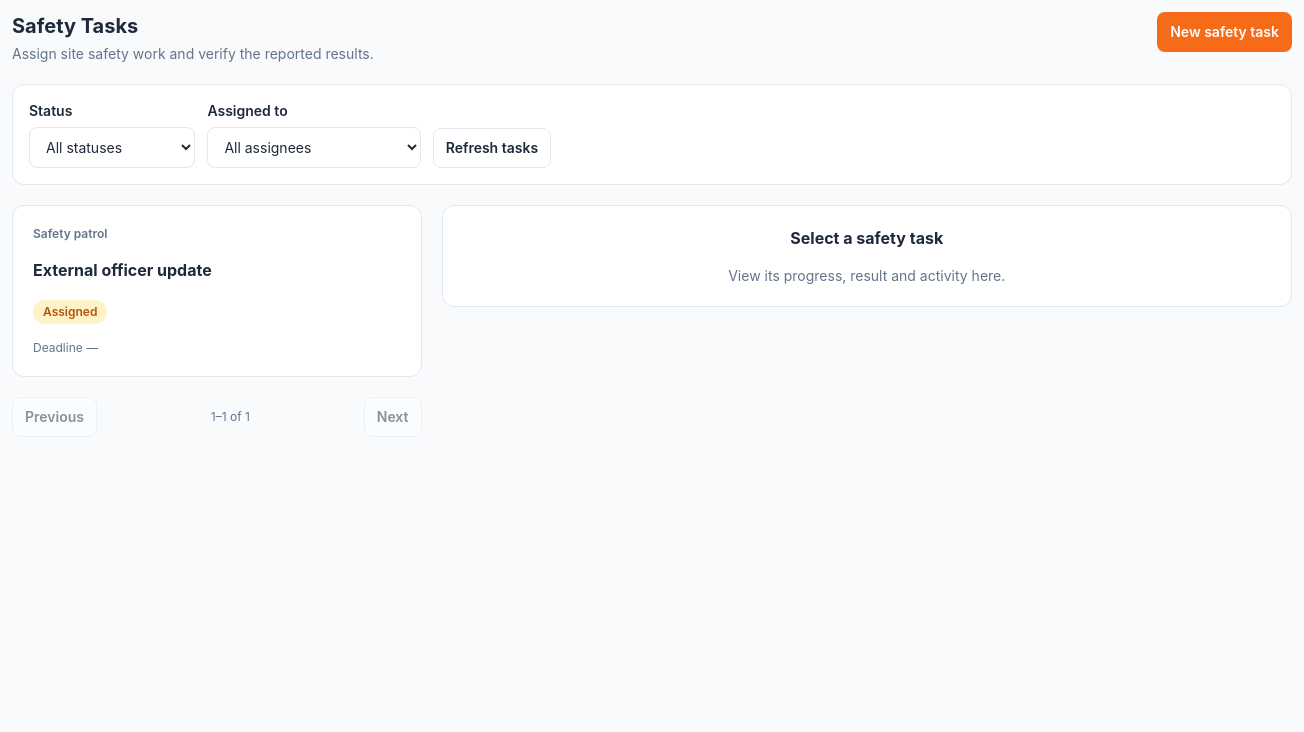
Refresh tasks loads the selected task changed by another officer within the cache window
This screenshot has width=1304, height=732.
Click the button "Safety patrol External officer update Assigned Deadline —": (70, 234) x1=12 y1=205 x2=422 y2=377
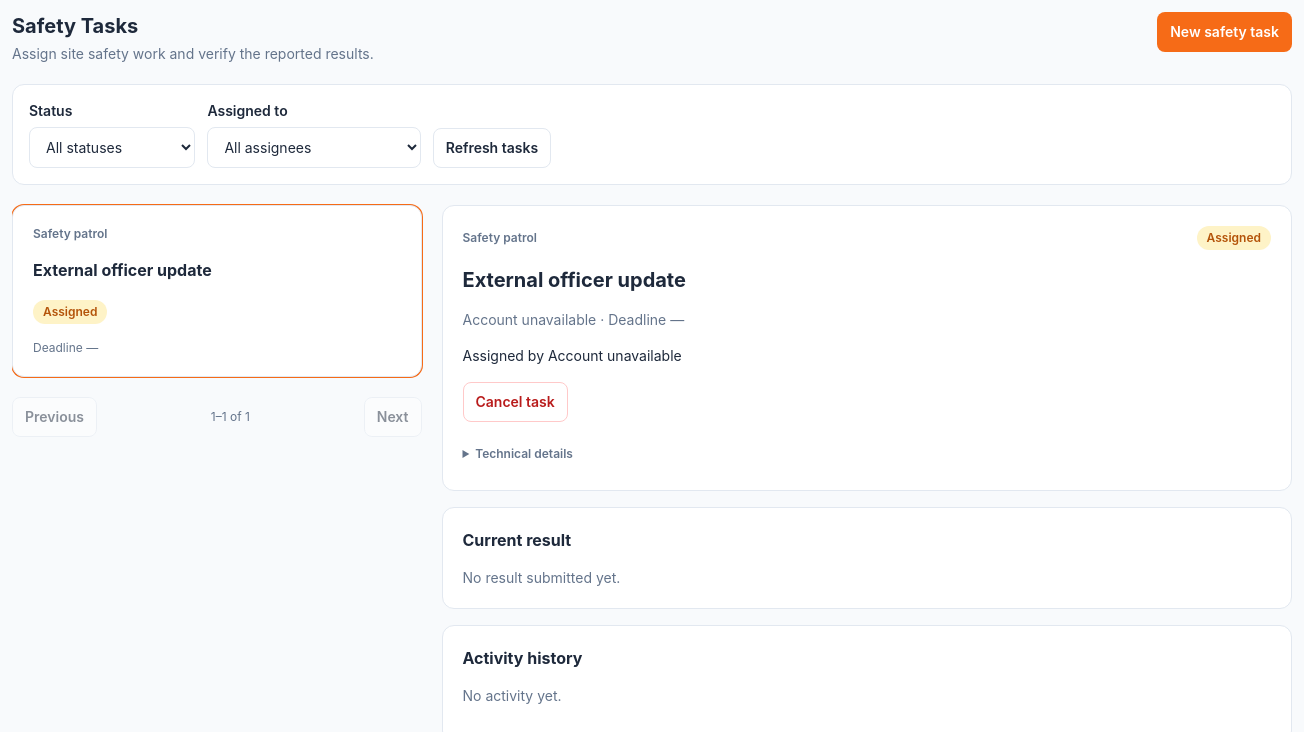
Click the button "Refresh tasks": (492, 148) x1=433 y1=128 x2=551 y2=168
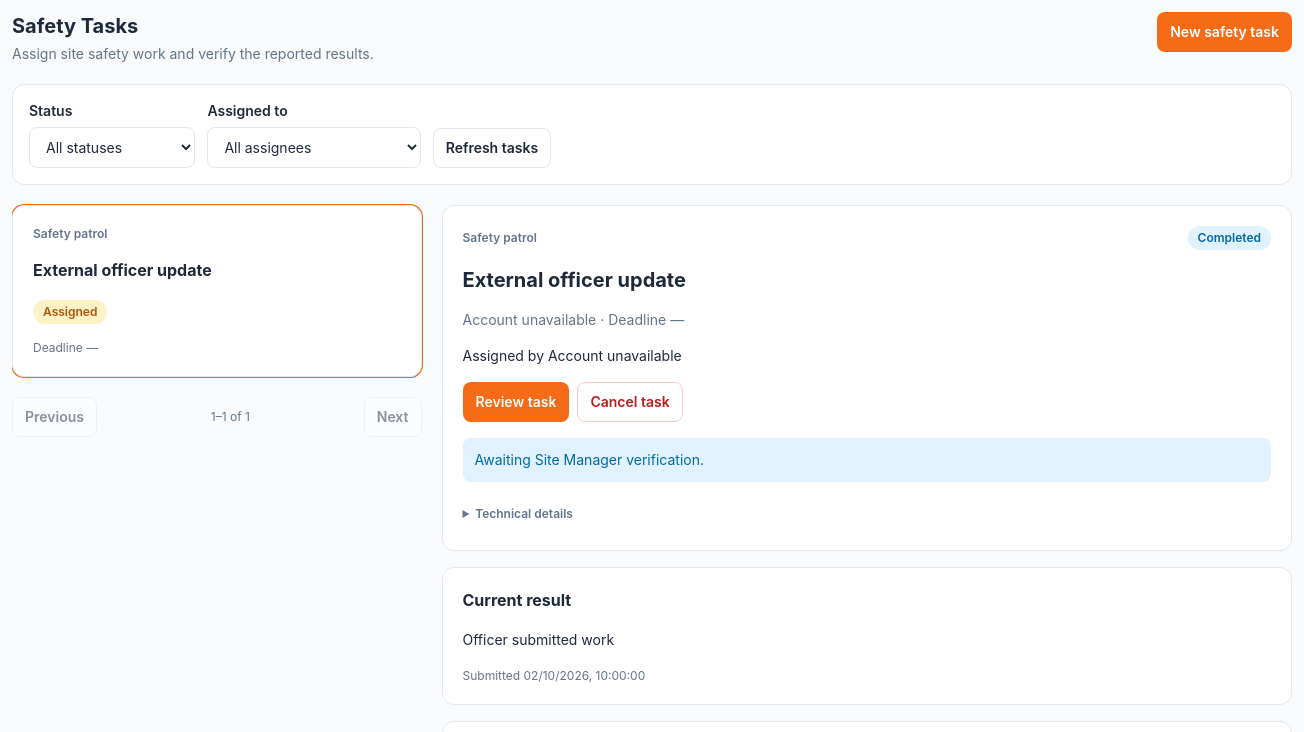
expect the text "Officer submitted work" is shown: met, box x1=462 y1=631 x2=614 y2=648
expect the button "Review task" is shown: met, box x1=462 y1=382 x2=569 y2=422
